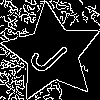J: (27, 28, 77, 78)
